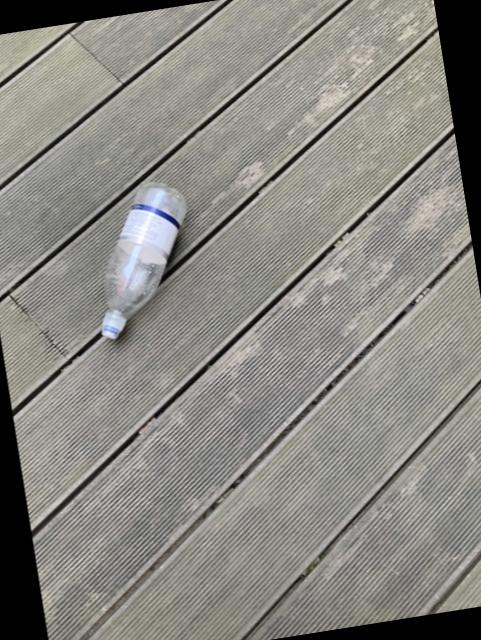plastic: (100, 181, 183, 337)
